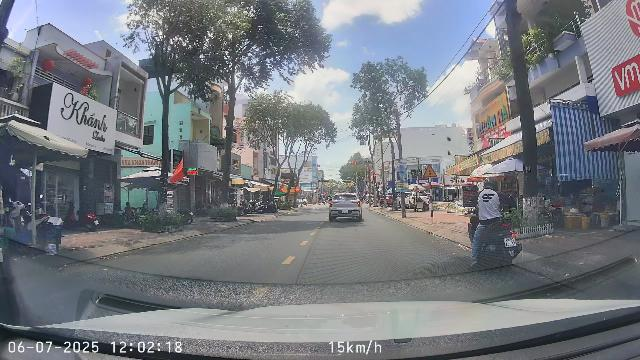209-giao-nhau-co-tin-hieu-den: (423, 164, 437, 178)
